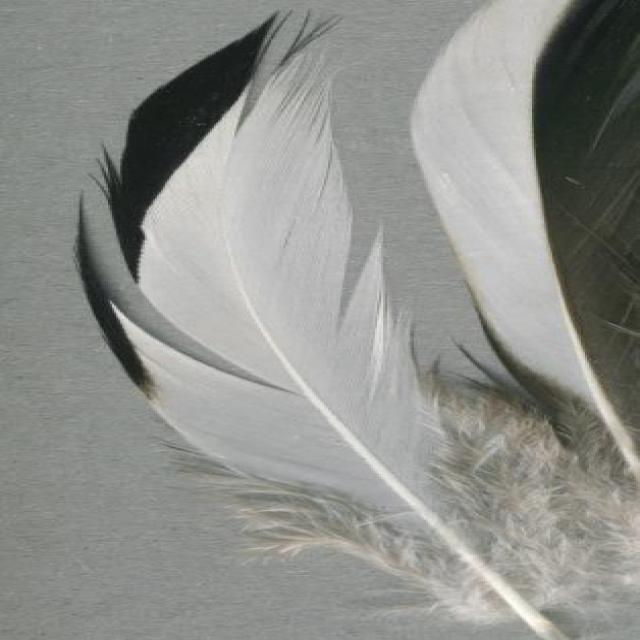feather: (57, 18, 581, 640), (411, 0, 640, 486)
